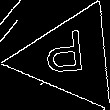P_S: (47, 31, 93, 85)
